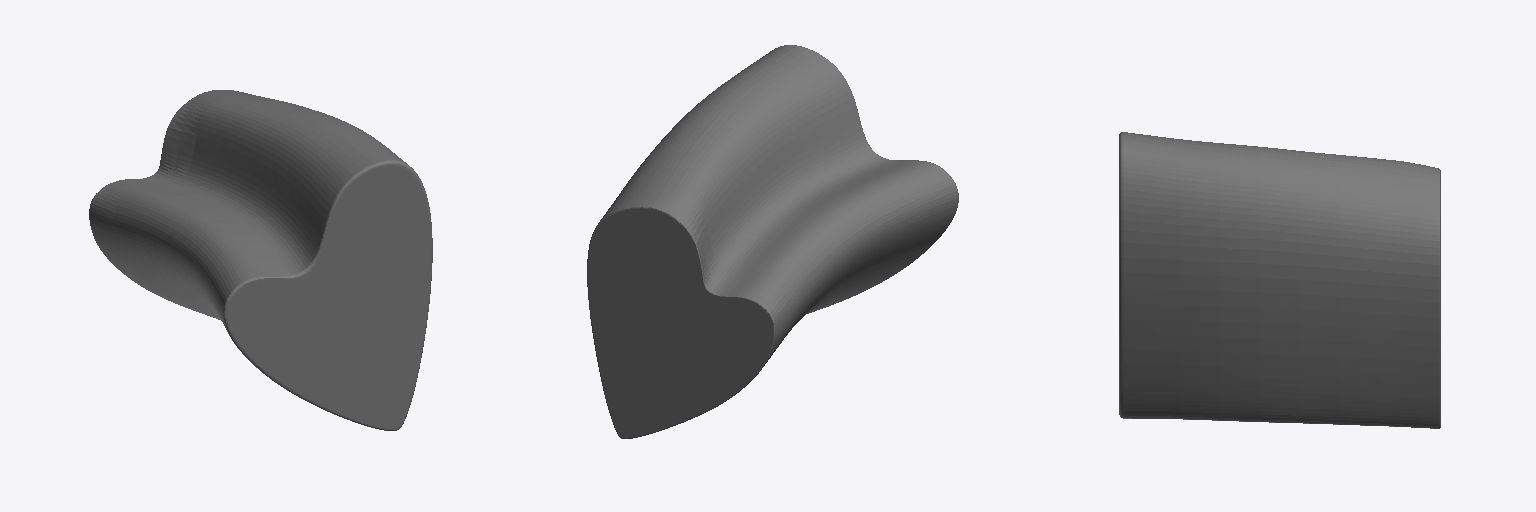
The model's file is riva1920_onelove_obj.obj.
3 renders of one model, left to right at view 1: azimuth 30°, elevation 25°; view 2: azimuth 150°, elevation 25°; view 3: azimuth 270°, elevation 25°, orthographic.
Parts seen in each view (by area): view 1: riva1920_onelove; view 2: riva1920_onelove; view 3: riva1920_onelove.
Part boxes in pixels (bbox=[...]): riva1920_onelove: bbox=[89, 90, 432, 430]; riva1920_onelove: bbox=[587, 45, 958, 438]; riva1920_onelove: bbox=[1119, 132, 1440, 428].
Bounding box in the file's own units: 34.72 × 41.83 × 43.35.